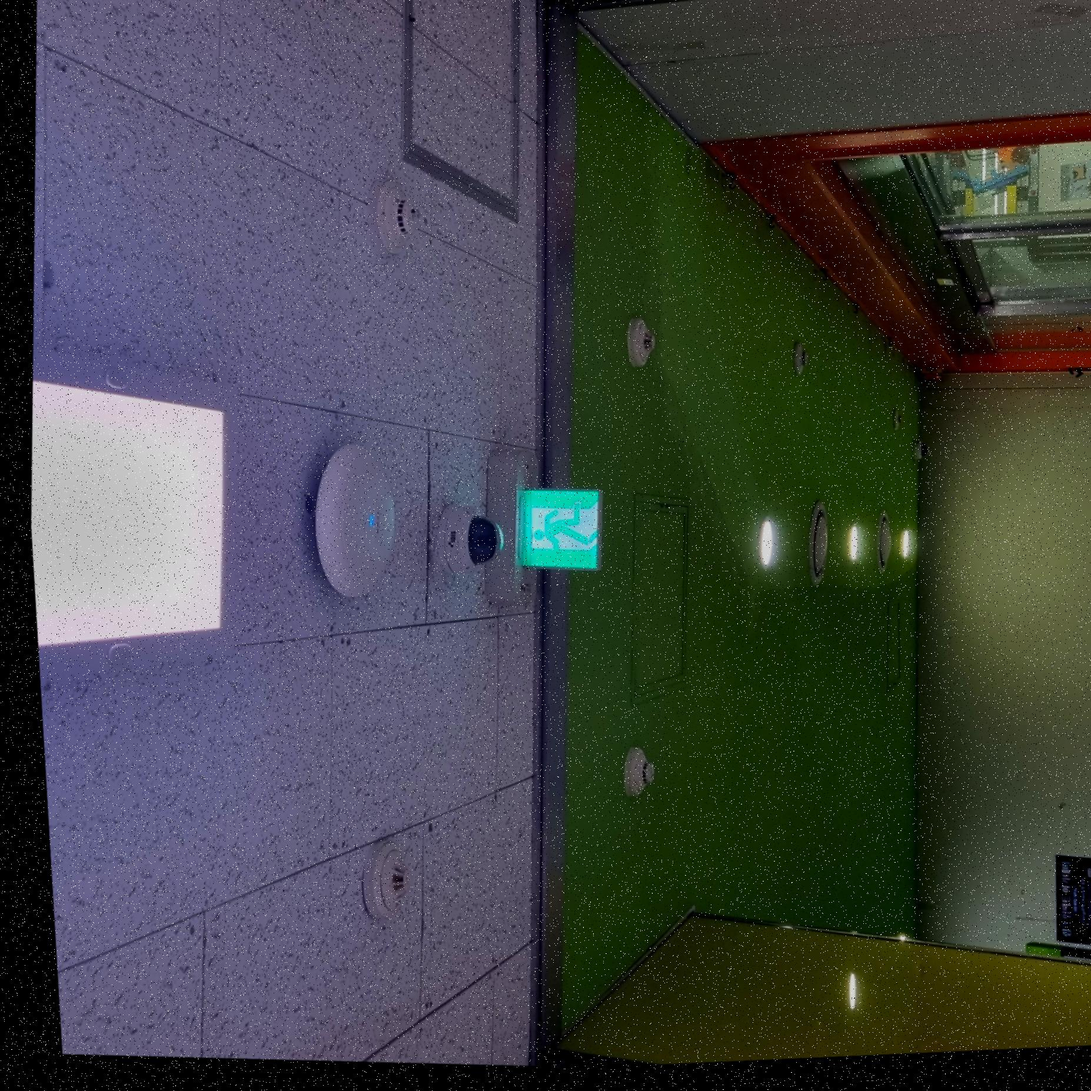emergency_exit: (515, 485, 602, 572)
